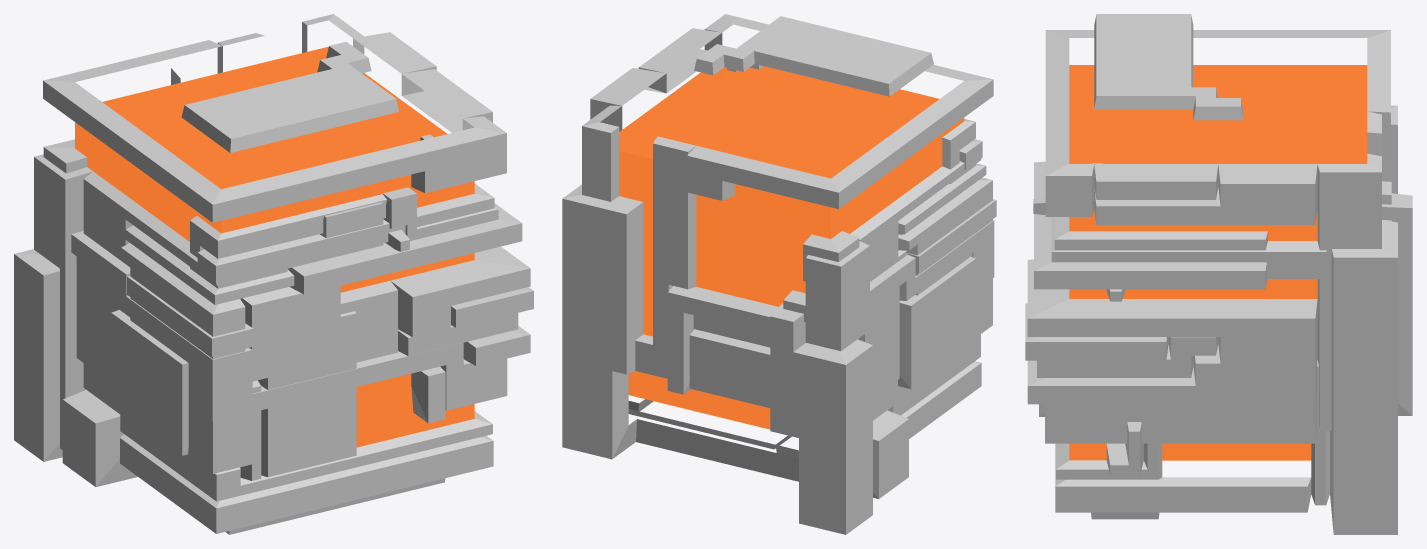
Rendered from FragmentCube01.glb.
3 views of the same model, side by side, from view 1: azimuth 30°, elevation 25°; view 2: azimuth 150°, elevation 25°; view 3: azimuth 270°, elevation 25° (orthographic). The views are drawn at different scales.
Visible parts, largest first — view 1: Cube.021_RLExtr.001, Cube.021_RLExtr, FragmentCube01; view 2: Cube.021_RLExtr.001, Cube.021_RLExtr, FragmentCube01; view 3: Cube.021_RLExtr.001, Cube.021_RLExtr, FragmentCube01.
Boxes of the visible parts, left/top/right/bottom form: Cube.021_RLExtr.001: left=43, top=14, right=533, bottom=455; Cube.021_RLExtr: left=14, top=134, right=498, bottom=534; FragmentCube01: left=75, top=46, right=474, bottom=447; Cube.021_RLExtr.001: left=582, top=14, right=996, bottom=407; Cube.021_RLExtr: left=562, top=64, right=992, bottom=534; FragmentCube01: left=619, top=66, right=964, bottom=429; Cube.021_RLExtr.001: left=1025, top=14, right=1391, bottom=443; Cube.021_RLExtr: left=1033, top=105, right=1412, bottom=534; FragmentCube01: left=1069, top=65, right=1367, bottom=460.
Size of the model in its own units: 5.43 by 6.29 by 5.43.
